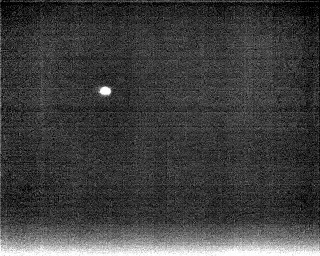AIRPLANE: (97, 84, 114, 99)
